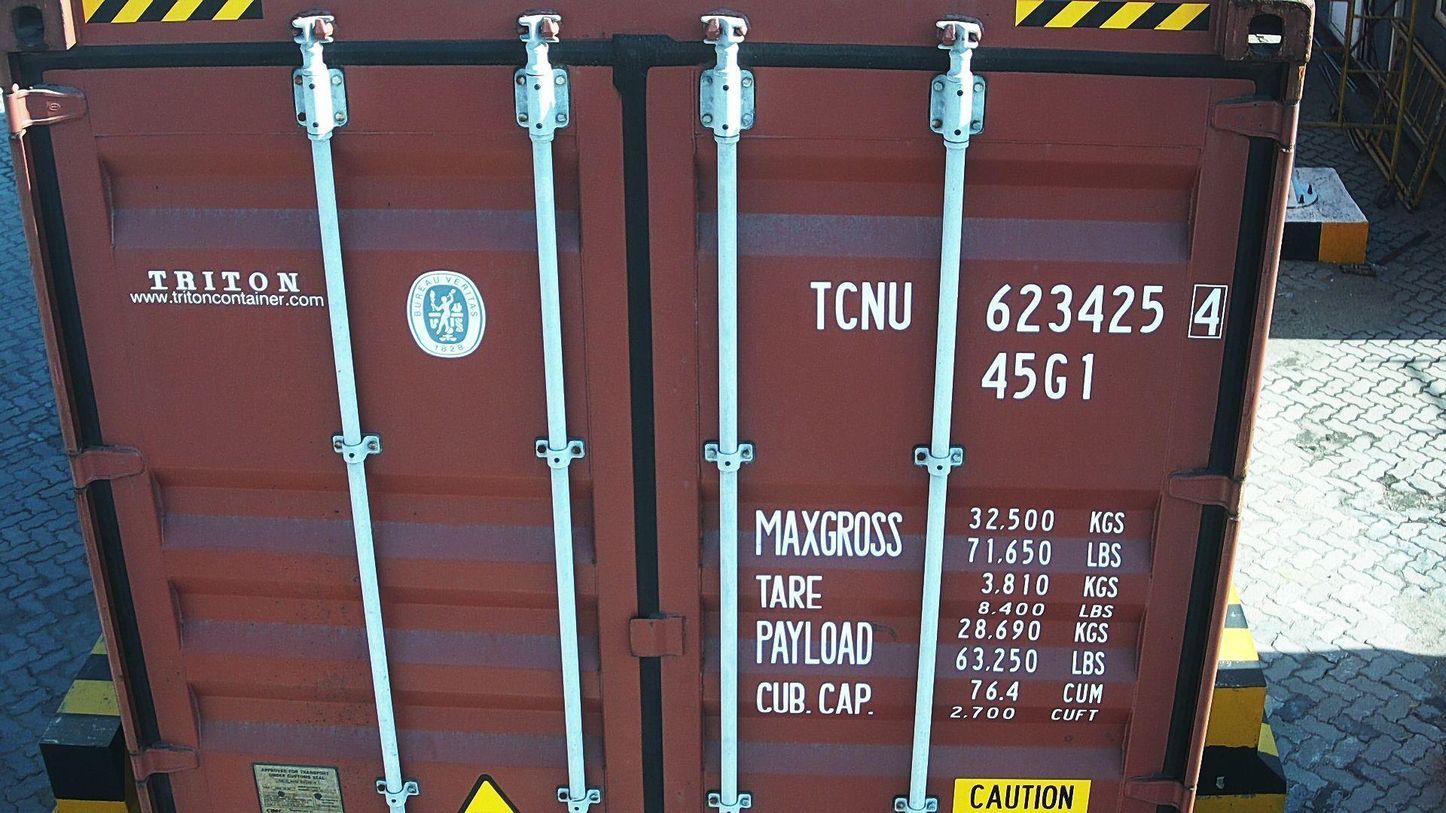container-numbers: (804, 276, 1235, 343), (978, 346, 1105, 405)
